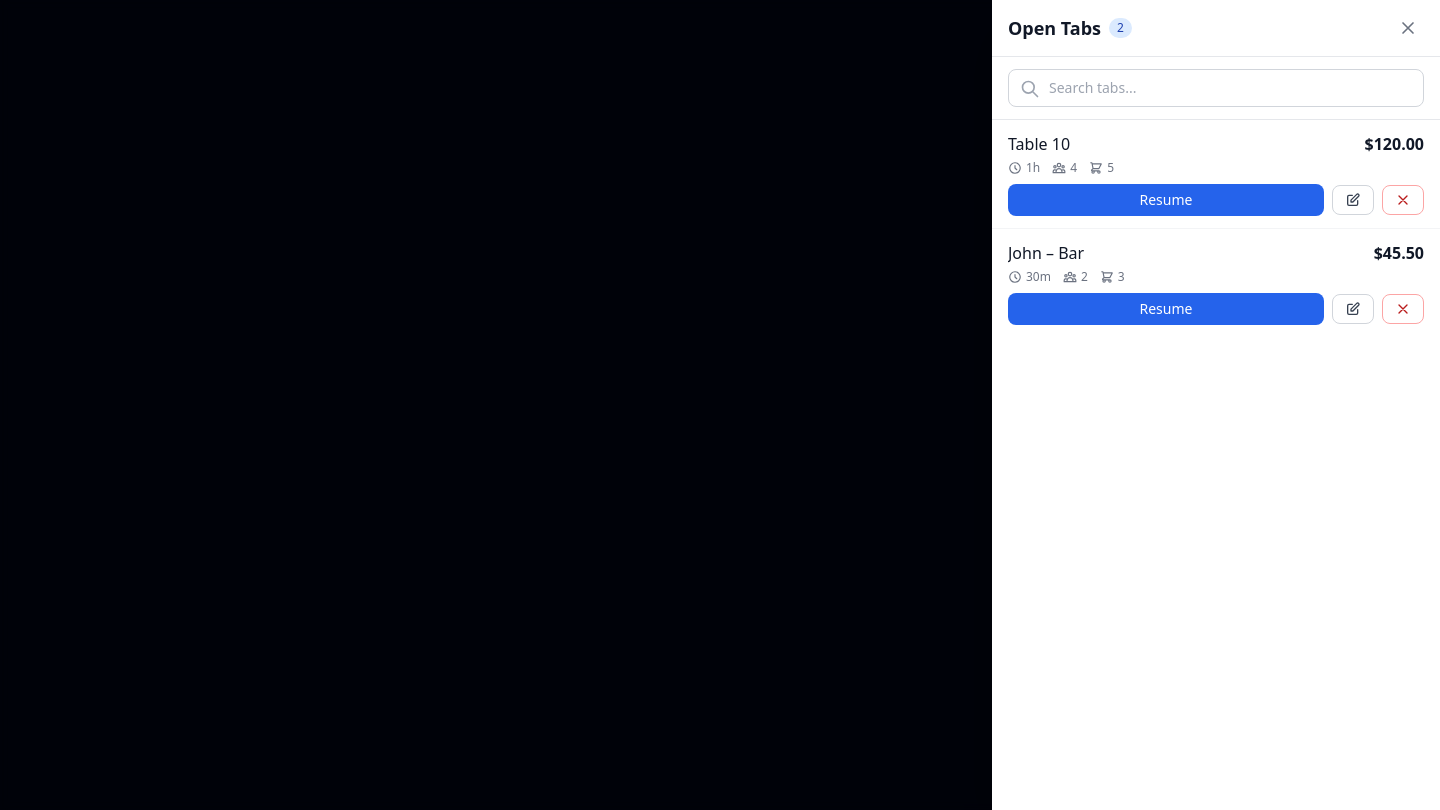
Test: PosTabsSidebar › filters tabs by search query
Step 1. Type "john" into the field with placeholder "Search tabs..." → (1216, 88), box x1=1008 y1=69 x2=1424 y2=107
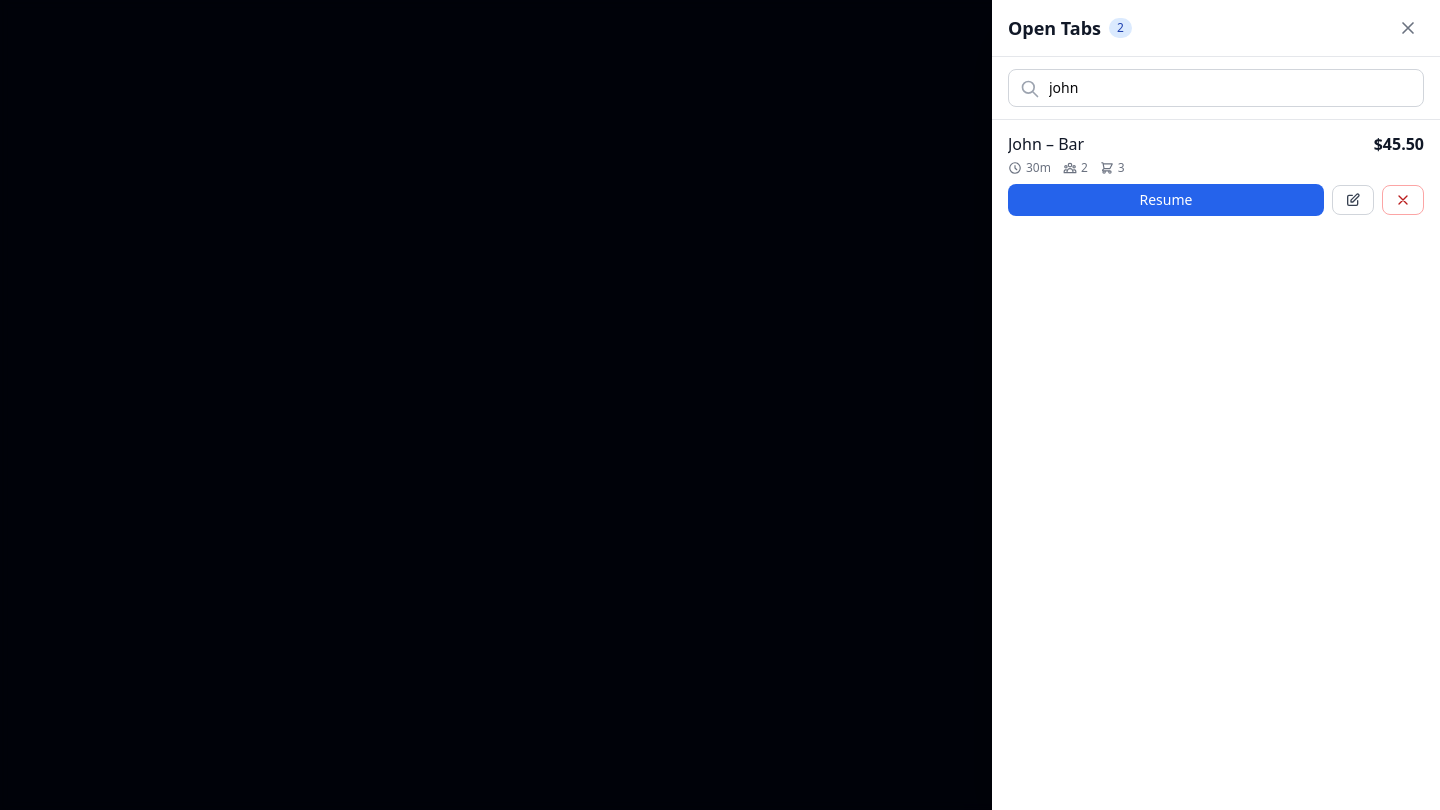
expect the heading "John – Bar" is shown: met, box x1=1008 y1=132 x2=1084 y2=156
expect the heading "Table 10" is gone: met
